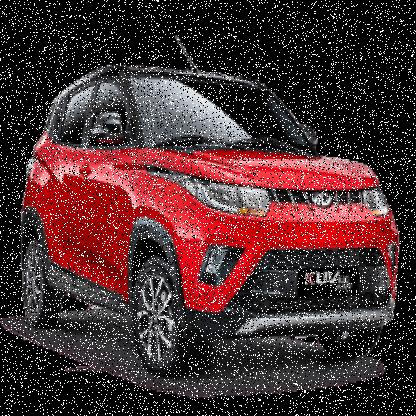licence: (294, 244, 374, 309)
